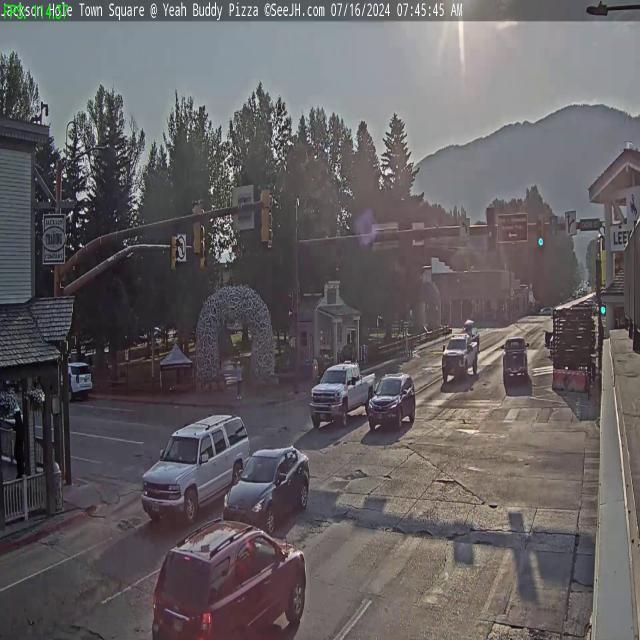person: (235, 358, 242, 398)
pickup: (308, 357, 377, 427), (441, 334, 479, 386), (502, 334, 529, 382)
sedan: (222, 438, 311, 534)
suv: (148, 518, 308, 640), (138, 410, 249, 520), (370, 365, 420, 430), (64, 358, 94, 403)
traffic light: (190, 200, 203, 256), (260, 185, 272, 245), (486, 208, 496, 252), (170, 234, 179, 272), (536, 216, 545, 247)
